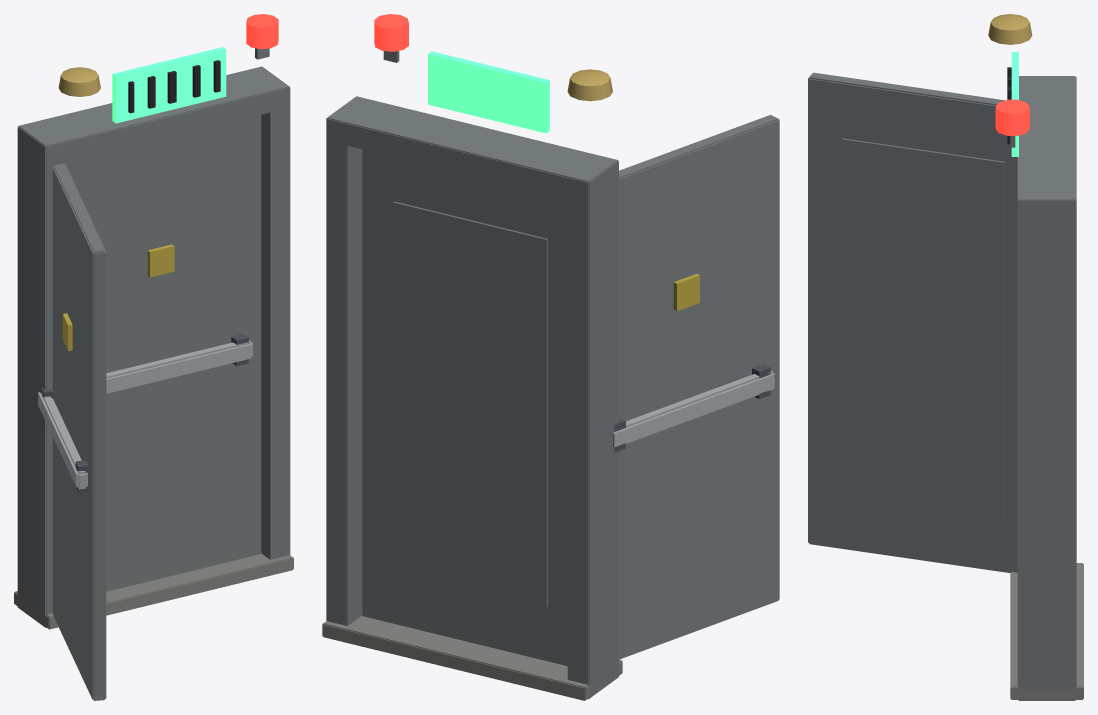
File: door_emergency.glb
3 renders of one model, left to right at view 1: azimuth 30°, elevation 25°; view 2: azimuth 150°, elevation 25°; view 3: azimuth 270°, elevation 25°, orthographic. The views are drawn at different scales.
Parts seen in each view (by area): view 1: door_closed_mesh, frame_mesh, door_anim_mesh, door_open_mesh, bar_mesh, beacon_dome, bell; view 2: door_closed_mesh, door_anim_mesh, frame_mesh, door_open_mesh, bell, beacon_dome; view 3: door_open_mesh, door_anim_mesh, frame_mesh, beacon_dome, bell.
Part boxes in pixels (box(x1,y1,x2,y2)): door_closed_mesh: box(65, 115, 261, 591); frame_mesh: box(14, 47, 293, 629); door_anim_mesh: box(38, 163, 106, 700); door_open_mesh: box(41, 164, 106, 700); bar_mesh: box(106, 341, 252, 392); beacon_dome: box(246, 14, 278, 49); bell: box(58, 67, 100, 96); door_closed_mesh: box(362, 149, 567, 665); door_anim_mesh: box(613, 115, 779, 659); frame_mesh: box(322, 51, 622, 700); door_open_mesh: box(614, 117, 778, 659); bell: box(567, 69, 612, 101); beacon_dome: box(374, 14, 408, 51); door_open_mesh: box(808, 72, 1017, 572); door_anim_mesh: box(808, 72, 1017, 572); frame_mesh: box(1007, 52, 1083, 700); beacon_dome: box(995, 99, 1029, 135); bell: box(988, 14, 1032, 44).
Size of what is drawn, in the model's own units: 1.48 by 2.61 by 1.12.
